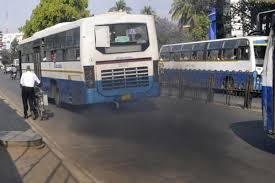smoke: (88, 97, 221, 159)
